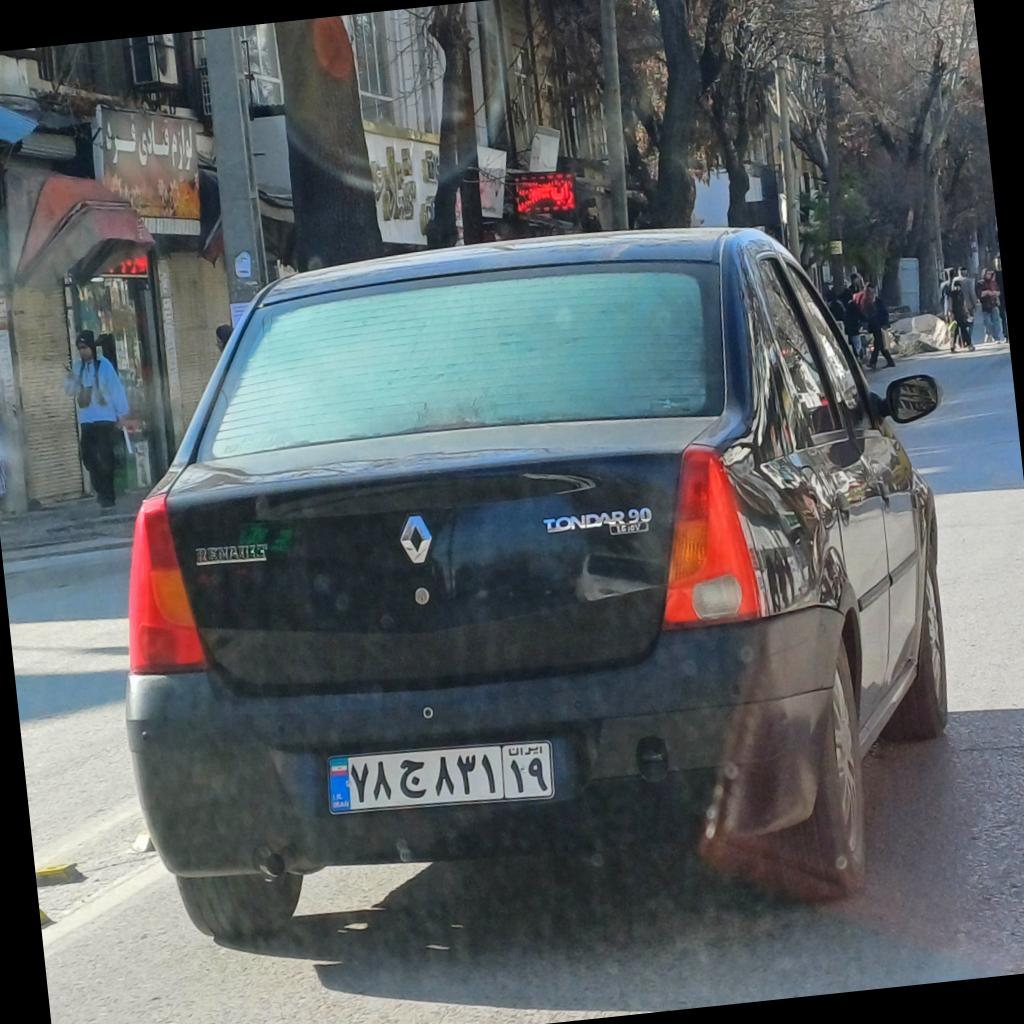Plates: (325, 732, 554, 820)
